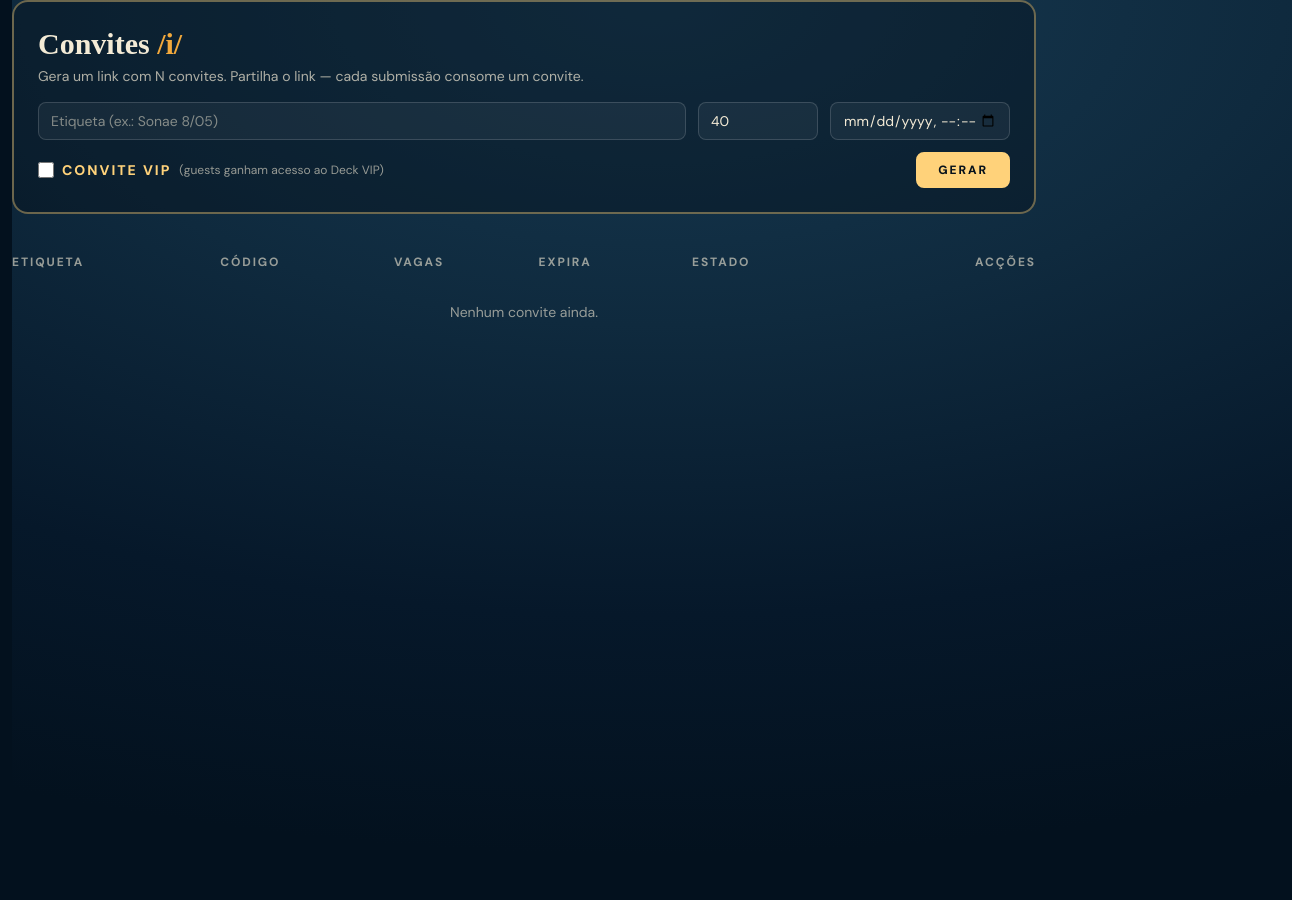
Test case: InvitesPanel › create flow: API error → mostra mensagem
Click the button "Gerar" at [963, 170], box [916,152,1010,188]
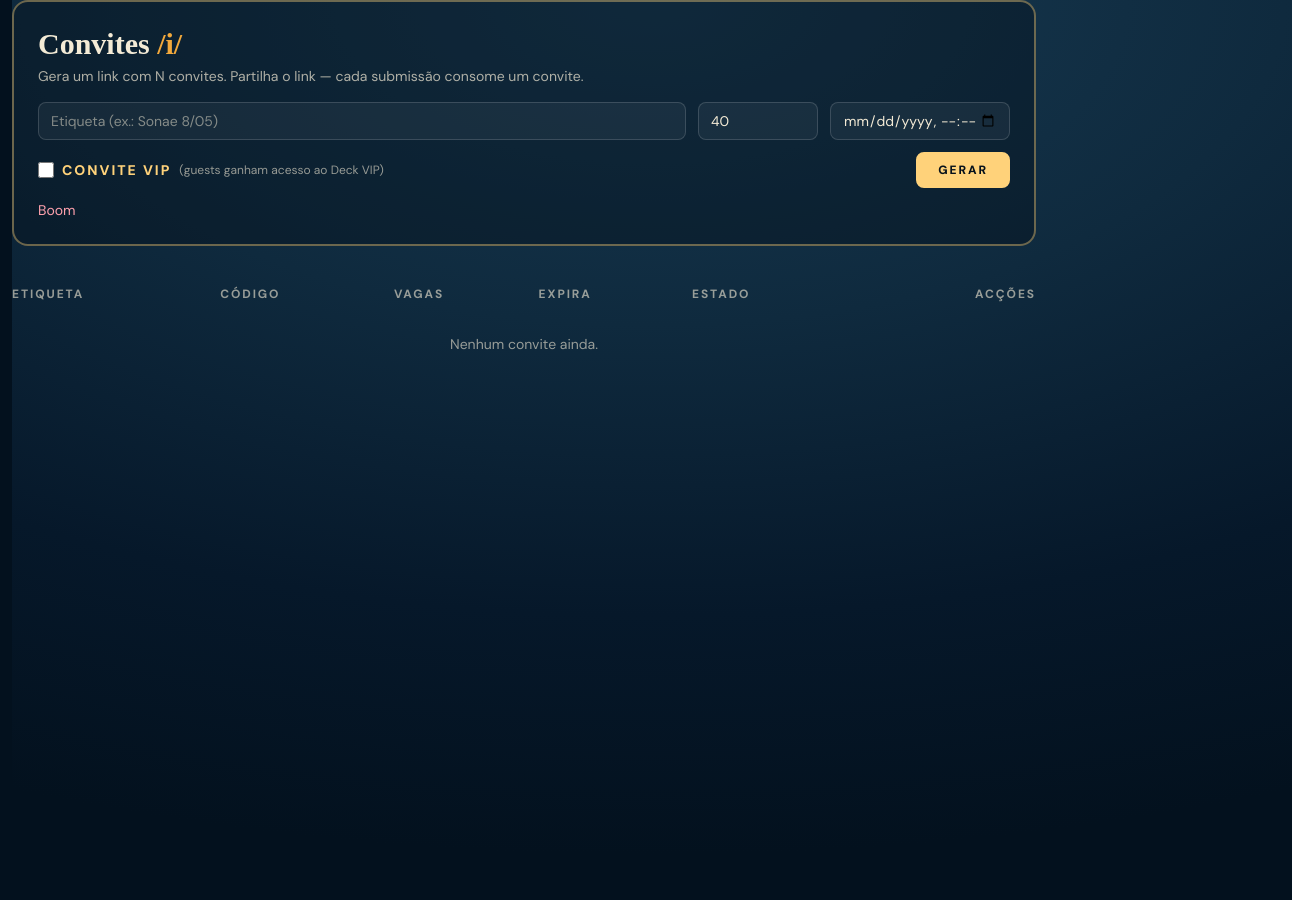
expect the message reads "Boom": met, box [38,201,76,219]
